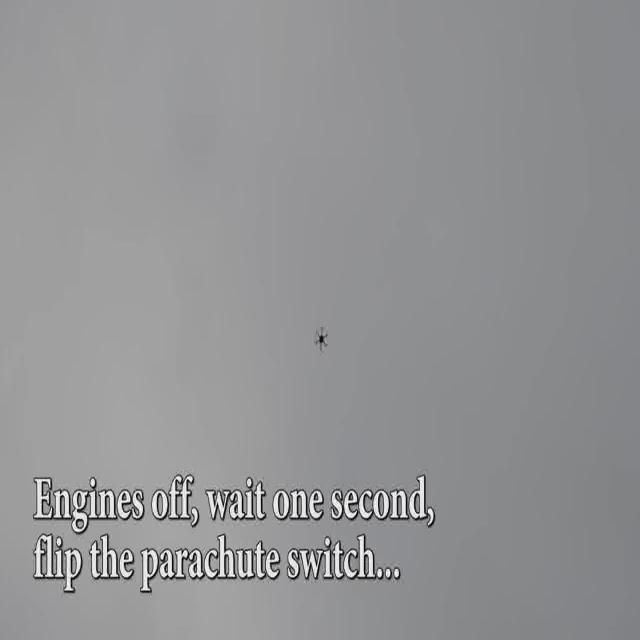drone: (312, 321, 328, 354)
